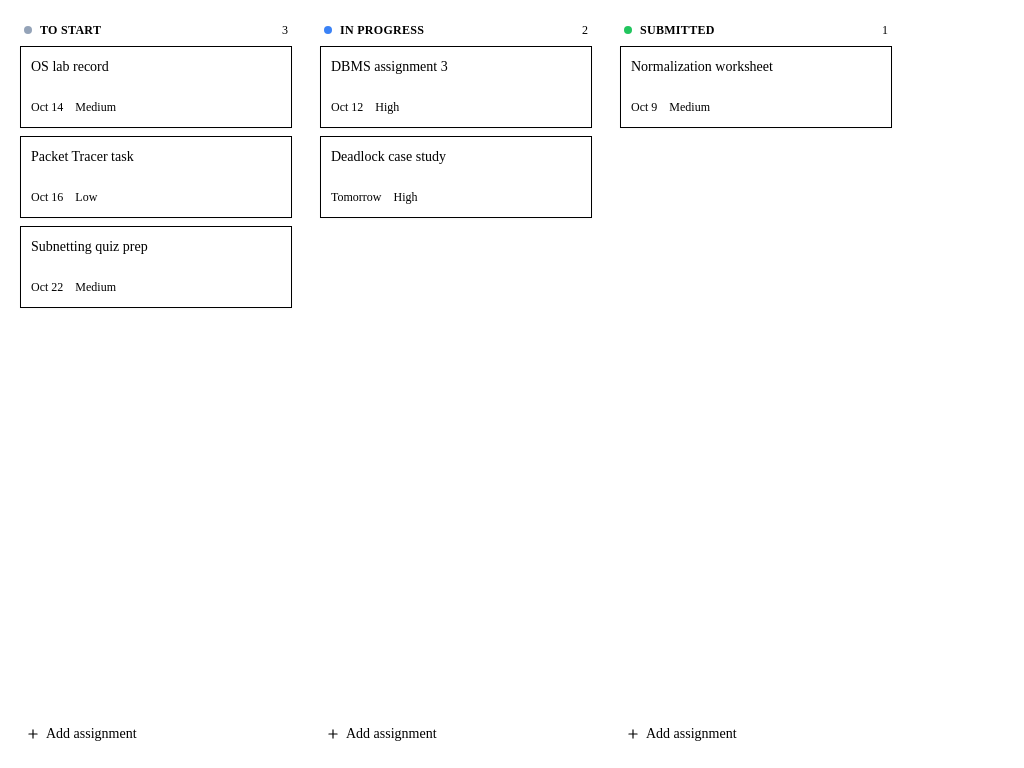
Test: board › adds a card to the column it was created in
Click the 3rd button "Add assignment". click: [691, 734]
box: [618,718,894,750]
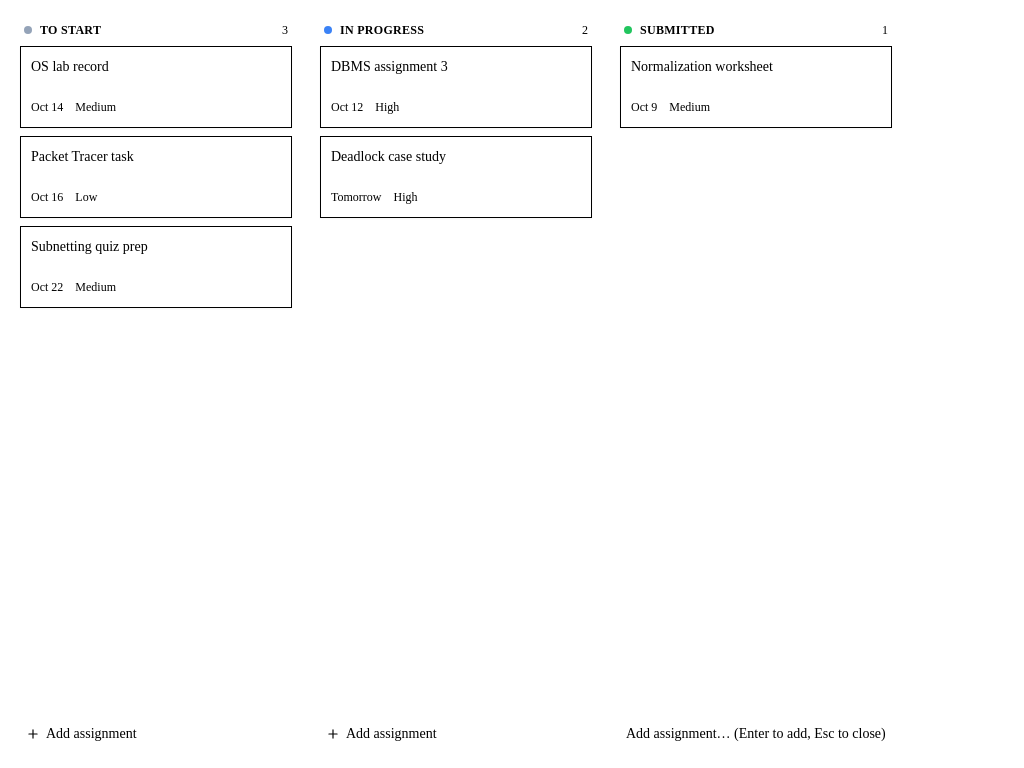
Type "Lab viva" into the field. click: [756, 734]
box: [618,718,894,750]
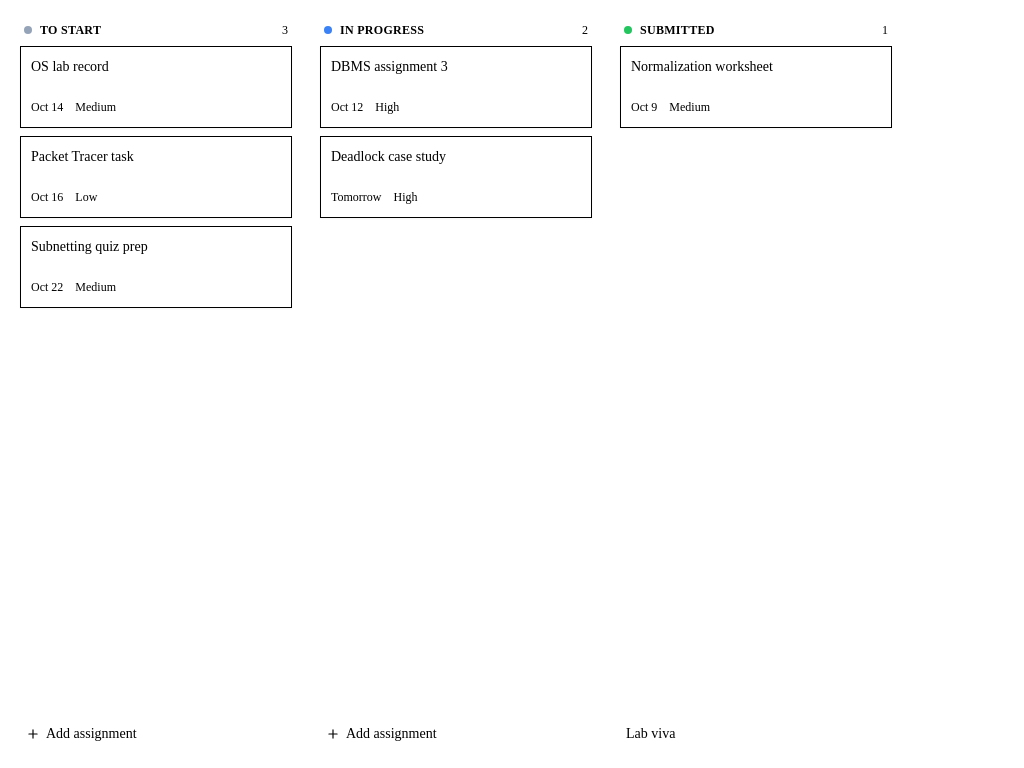
Press Enter in the field, box [618,718,894,750]
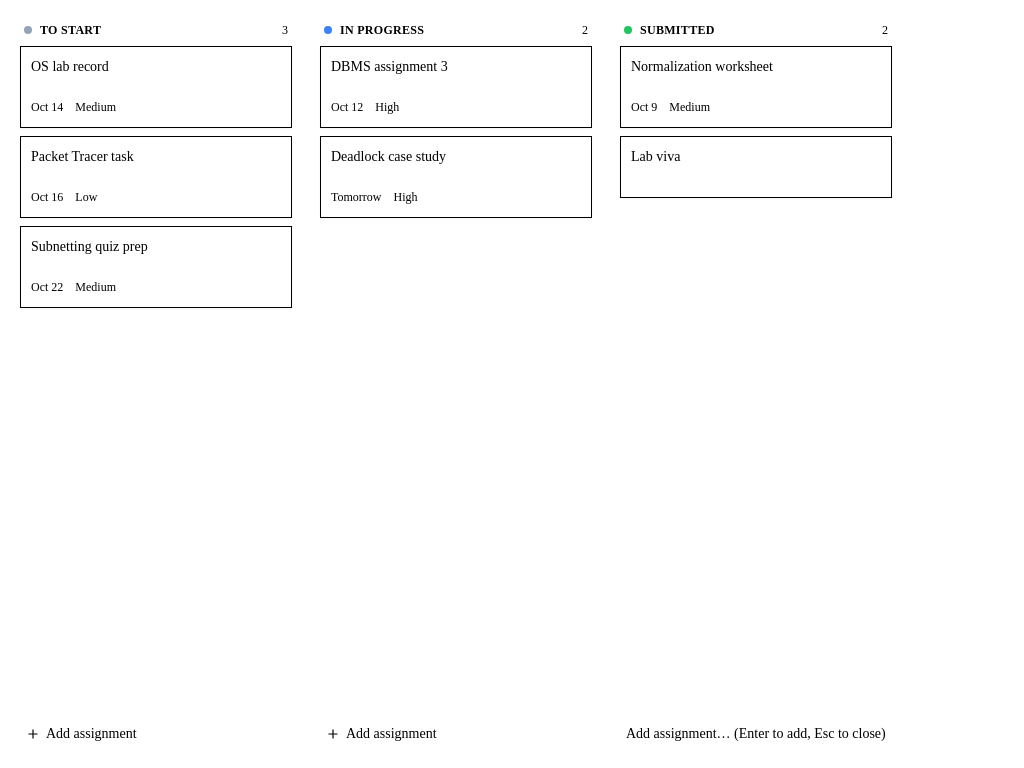
Expected: the element named "Submitted, 2 items" is shown, [612,12,900,756]
